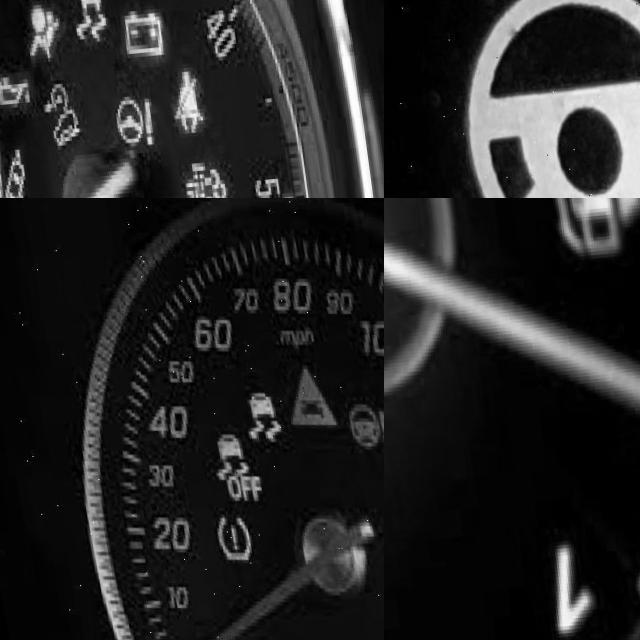Electronic Power Steering Warning: (440, 0, 640, 198), (337, 410, 383, 460)
Seat Belt: (159, 75, 201, 145)
